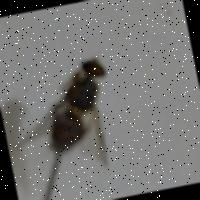Oriental-fruit-fly: (0, 32, 142, 192)
